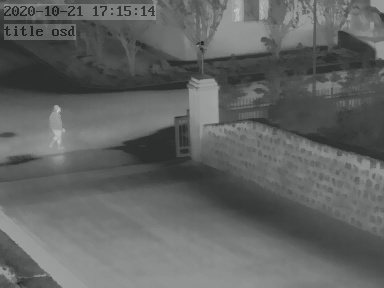person: (47, 103, 65, 148)
